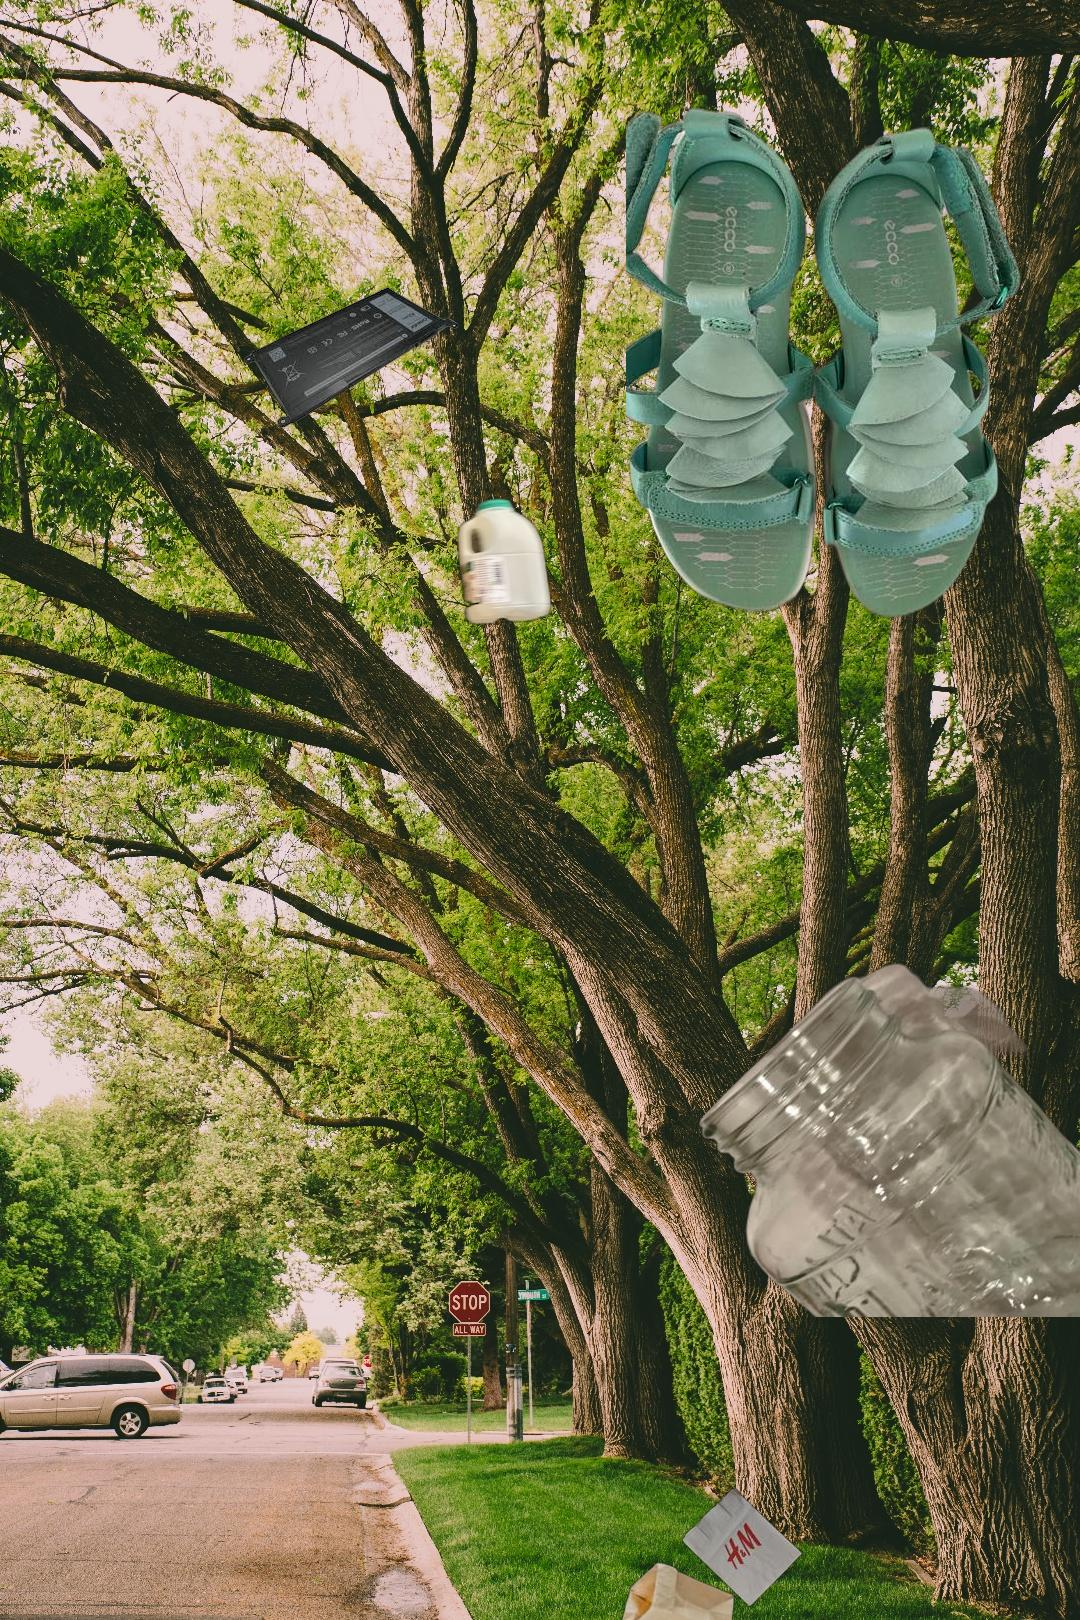battery: (242, 284, 460, 430)
glass: (694, 958, 1080, 1317)
paper-bag: (616, 1483, 806, 1620)
plastic-bottles: (453, 493, 669, 782)
shoes: (626, 102, 1025, 624)
